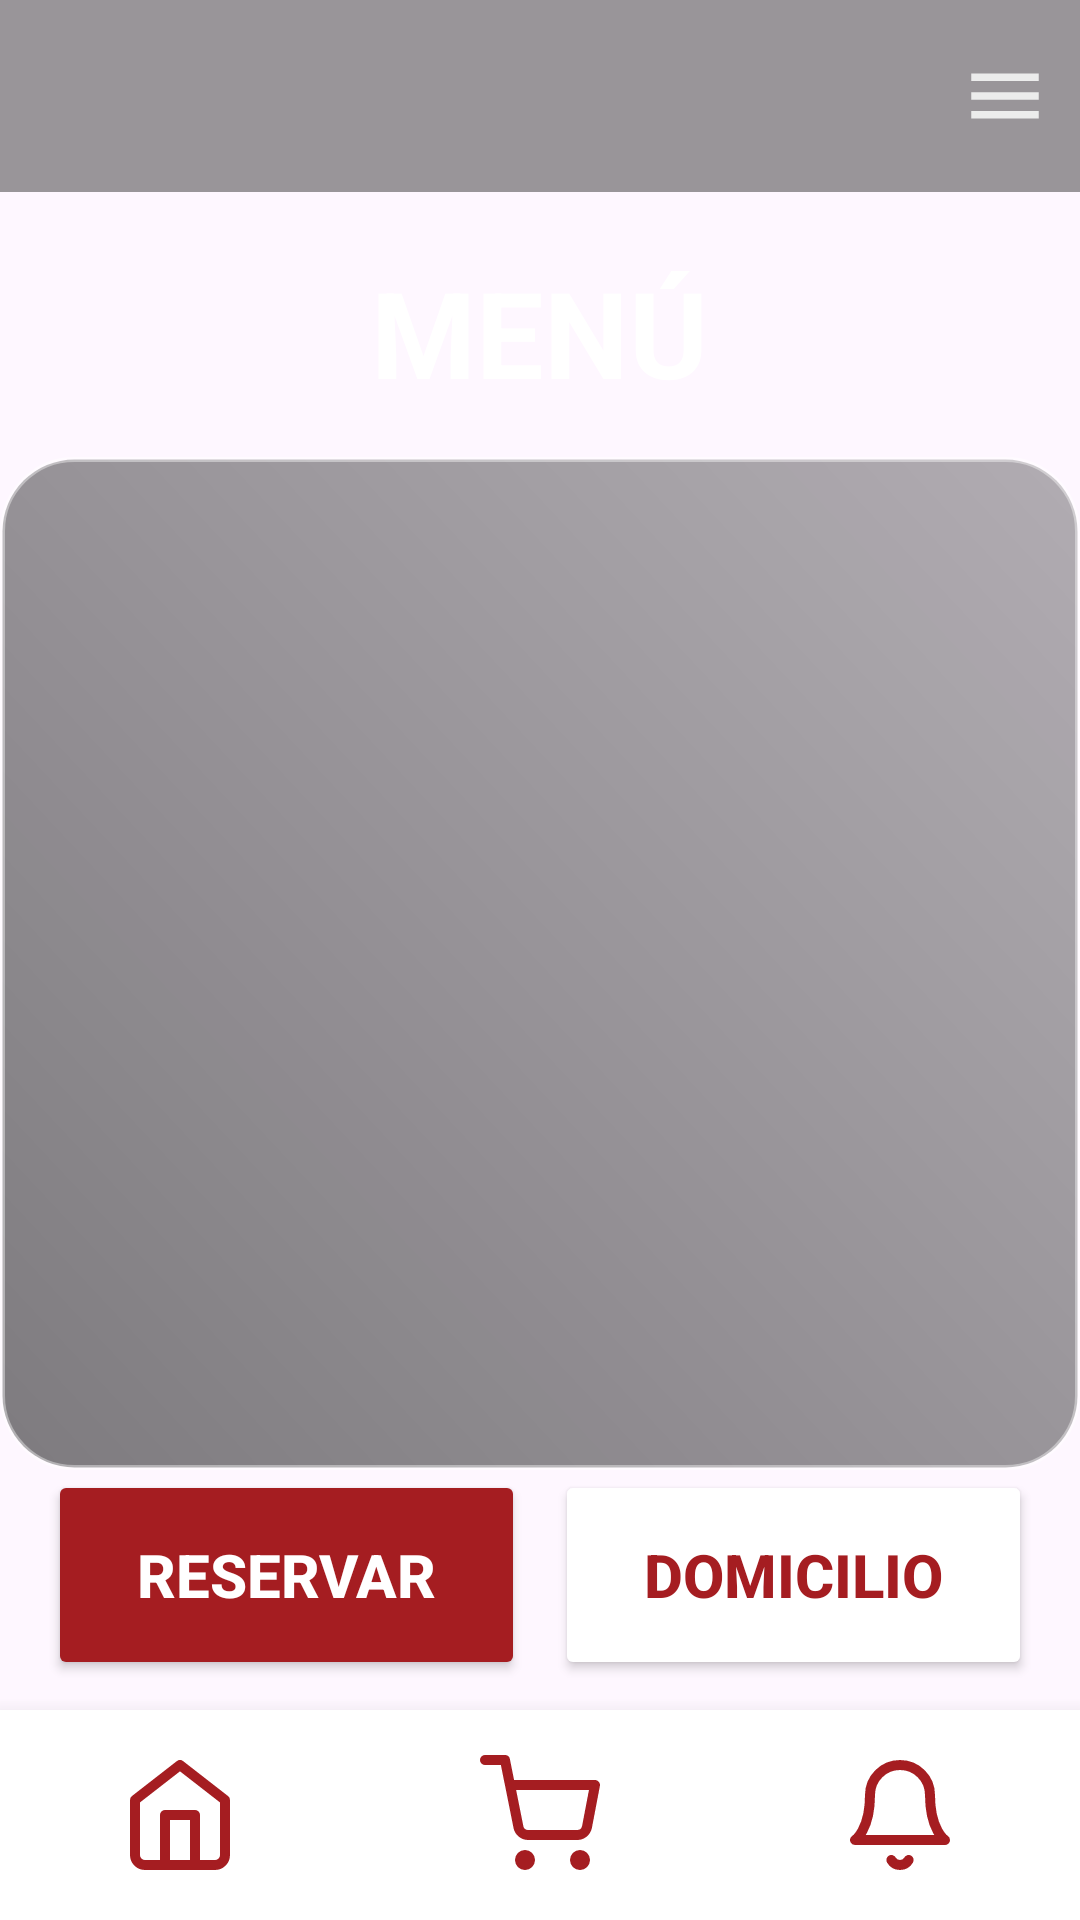

Where to tap for icons on this 1080px×1920px app screen, as [x,y]:
Carrito: [540,1812]
Inicio: [180,1815]
Menu: [1005,96]
Notificaciones: [900,1815]
